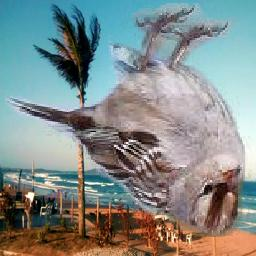Sparrow: (6, 3, 253, 237)
